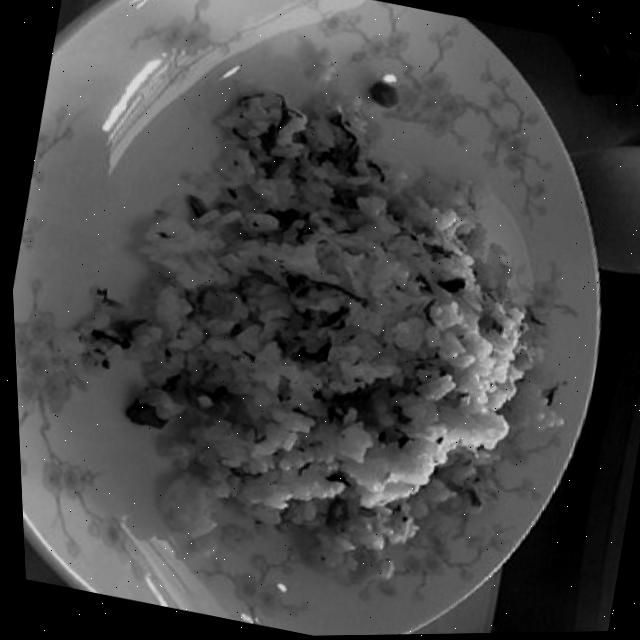米饭主食: (49, 78, 612, 639)
